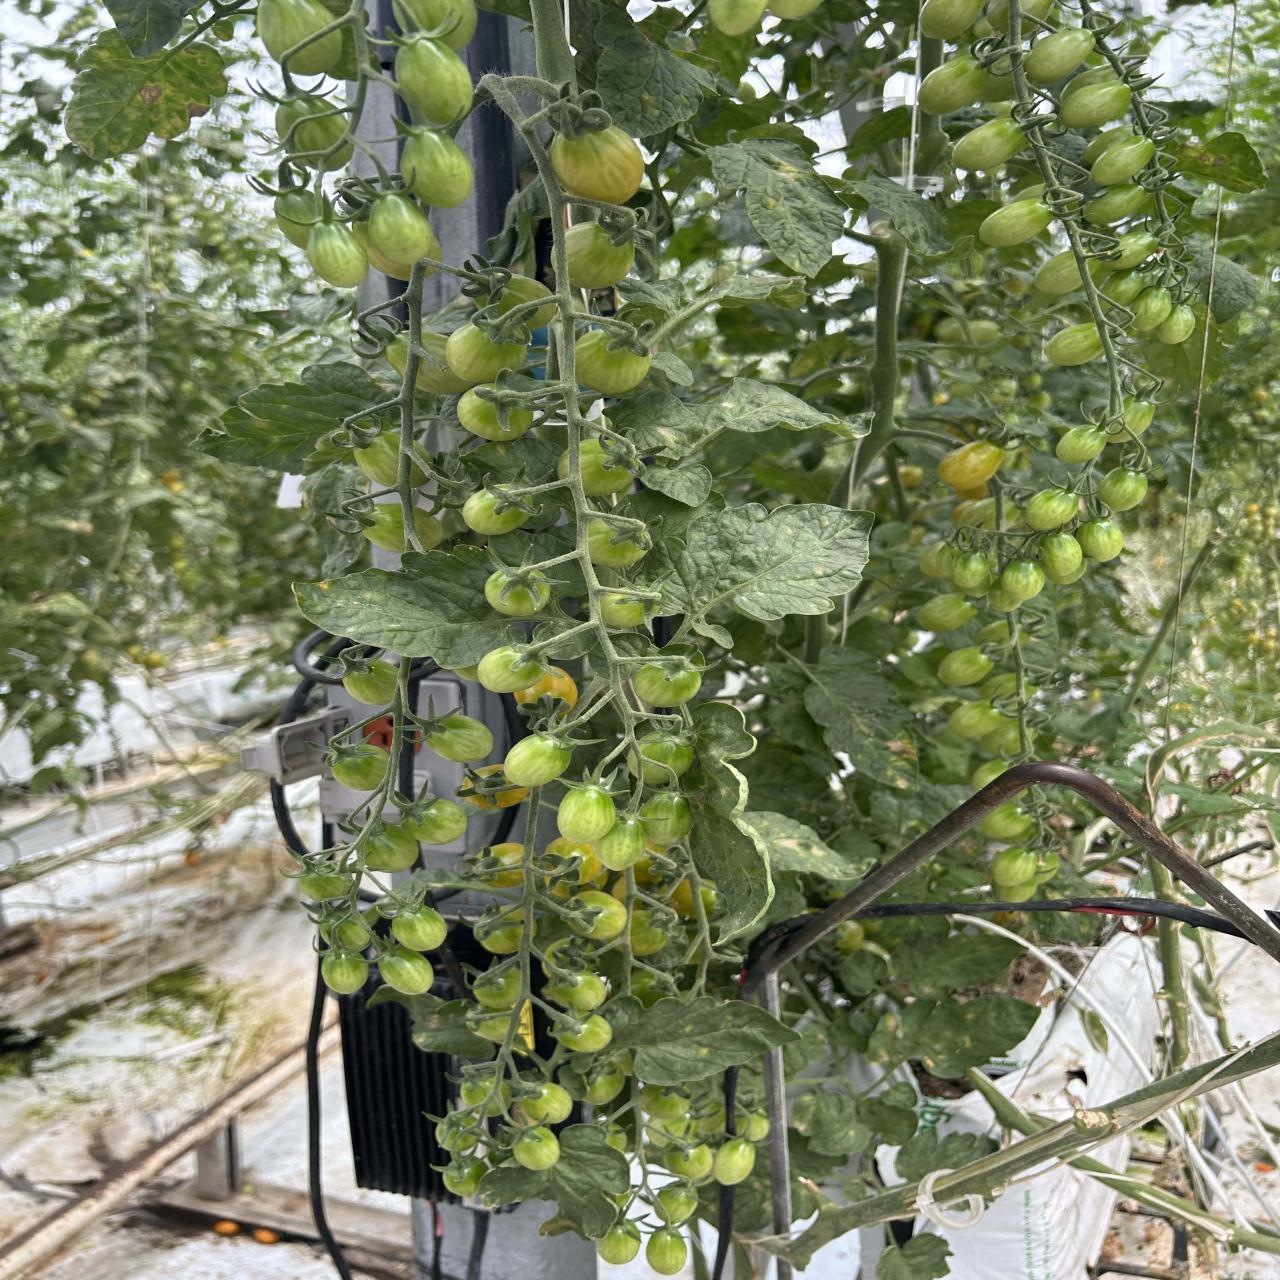Rugose leaf: (295, 552, 510, 667), (678, 503, 870, 621), (66, 32, 230, 162), (708, 139, 845, 277), (690, 379, 858, 435)
